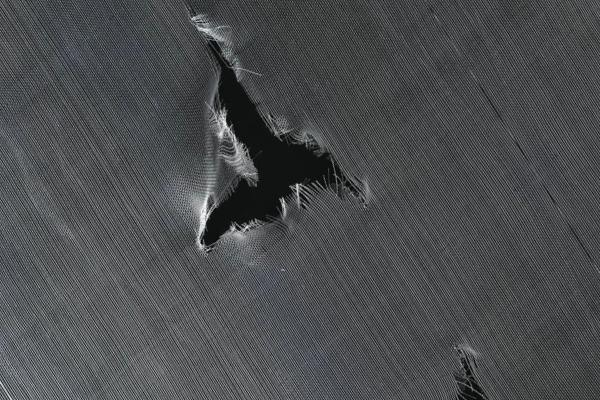hole: (178, 10, 370, 262), (446, 338, 494, 398)
